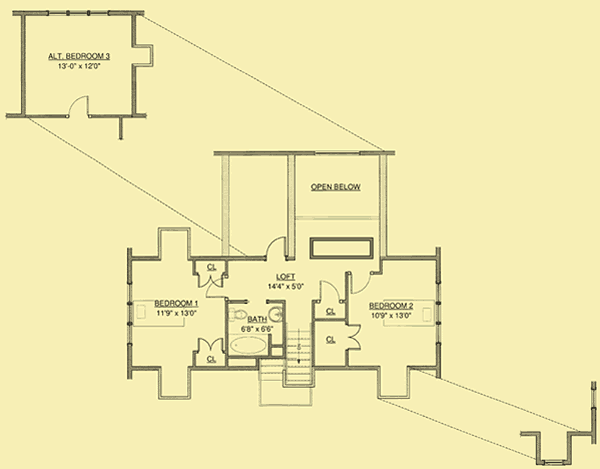door: (264, 235, 289, 261), (316, 278, 341, 304), (348, 271, 373, 296), (66, 95, 90, 115), (195, 338, 224, 354), (348, 321, 362, 353), (195, 273, 223, 288)
large_sink: (226, 306, 247, 324)
small_sink: (267, 305, 283, 322)
stairs: (282, 325, 315, 389)
tub: (226, 333, 273, 355)
windows: (126, 279, 135, 347), (434, 280, 442, 343), (48, 11, 108, 16)
